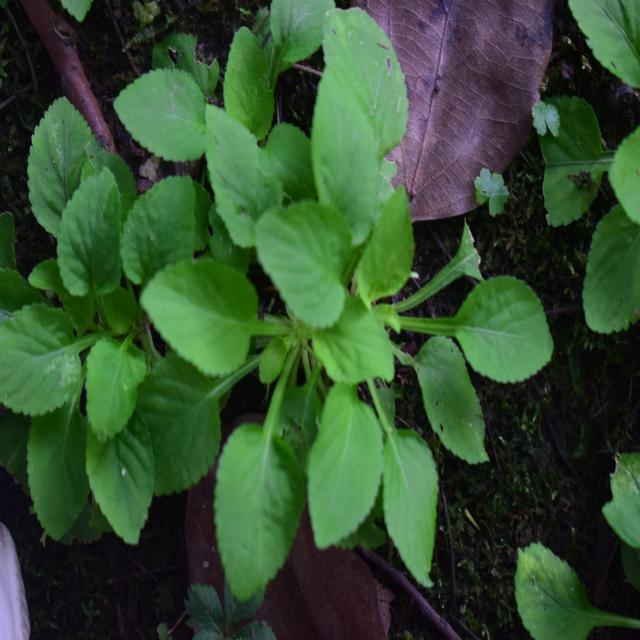Viola: (117, 50, 492, 568)
